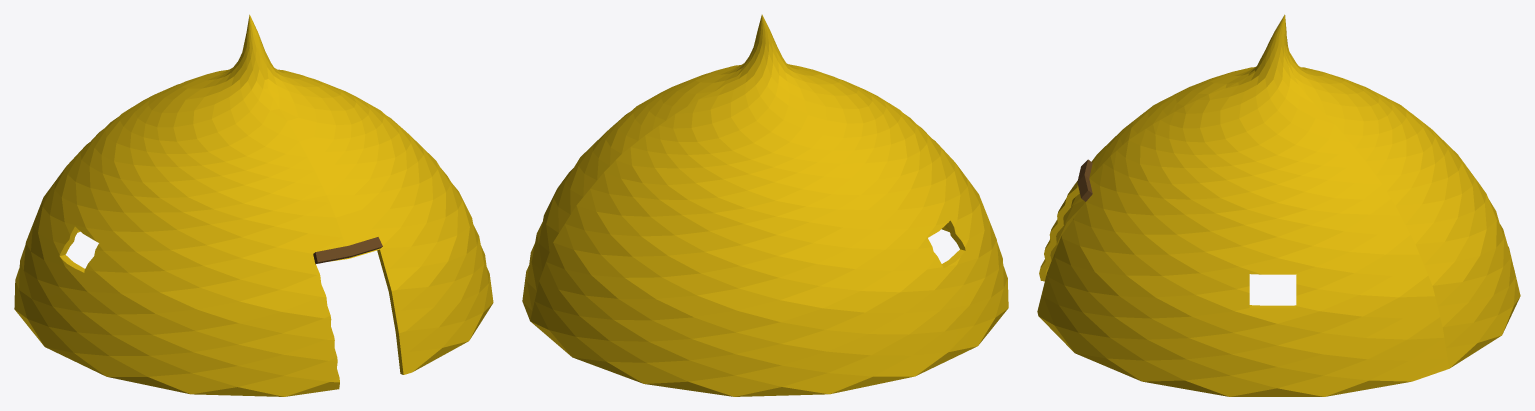
Rendered from Ethiopia Hut A.fbx.
The picture shows the model from 3 angles, left to right: view 1: azimuth 30°, elevation 25°; view 2: azimuth 150°, elevation 25°; view 3: azimuth 270°, elevation 25°; orthographic projection.
Parts seen in each view (by area): view 1: Ethiopia Hut A; view 2: Ethiopia Hut A; view 3: Ethiopia Hut A.
Part boxes in pixels (<box>): Ethiopia Hut A: <box>14,14,493,396</box>; Ethiopia Hut A: <box>522,14,1008,396</box>; Ethiopia Hut A: <box>1037,14,1520,396</box>.
Size of the model in its own units: 1012 by 653 by 1009.
1 material, 1 textured.
